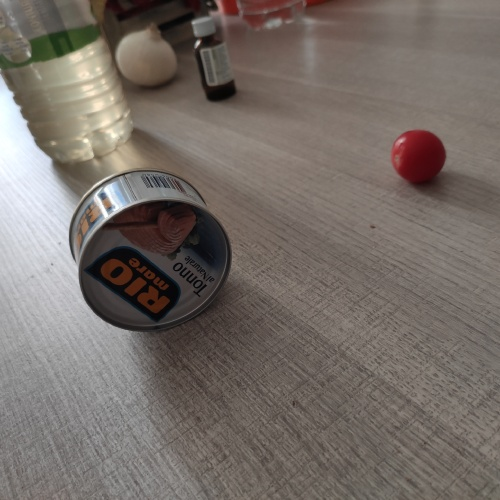pomodoro: (388, 126, 453, 189)
tonno: (59, 167, 236, 335)
